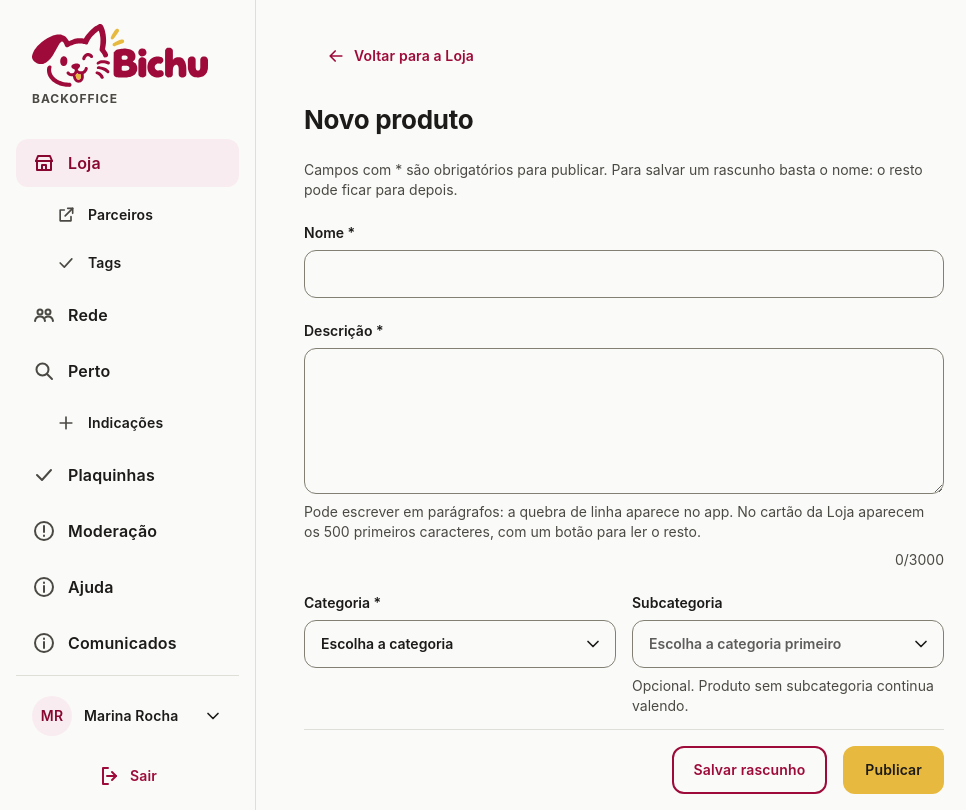
Test: 3 · Loja: formulario › erros: resumo no topo com um link por campo e foco no resumo; nada vai ao servidor
Click the button "Publicar" at [894, 770], box [843, 746, 944, 794]
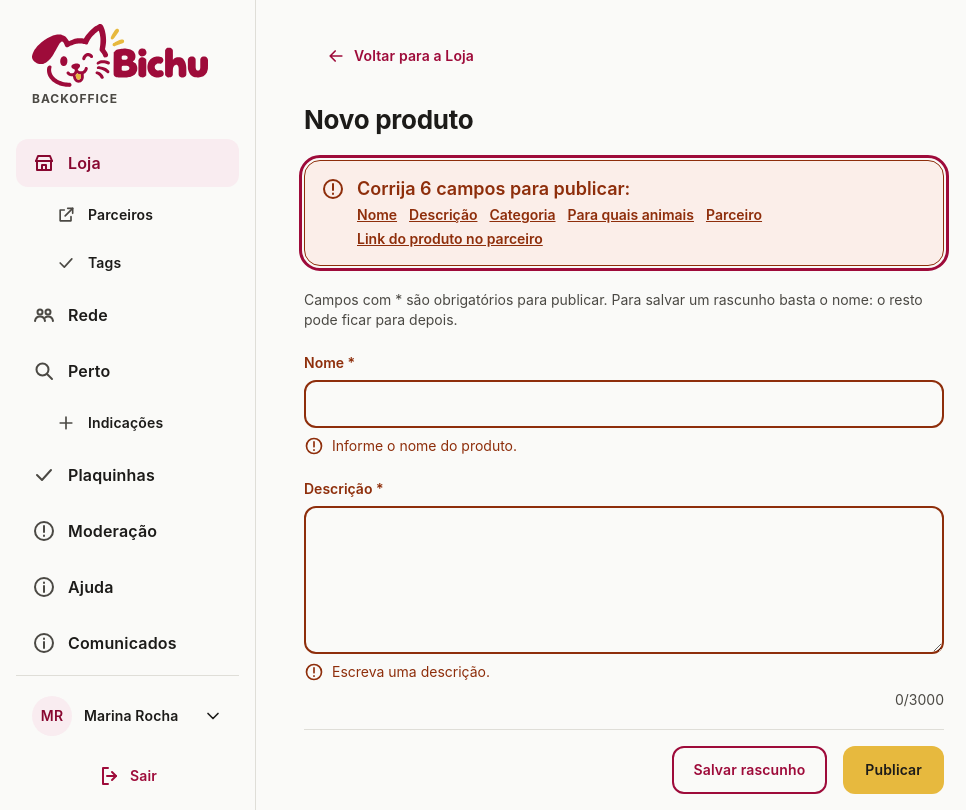
Expected: the message shows "Corrija 6 campos para publicar:", [357, 178, 630, 199]
Expected: the links read "Nome", "Descrição", "Categoria", "Para quais animais", "Parceiro", "Link do produto no parceiro", in this order, [357, 205, 397, 225]; [409, 205, 477, 225]; [490, 205, 556, 225]; [568, 205, 694, 225]; [706, 205, 762, 225]; [357, 229, 543, 249]
